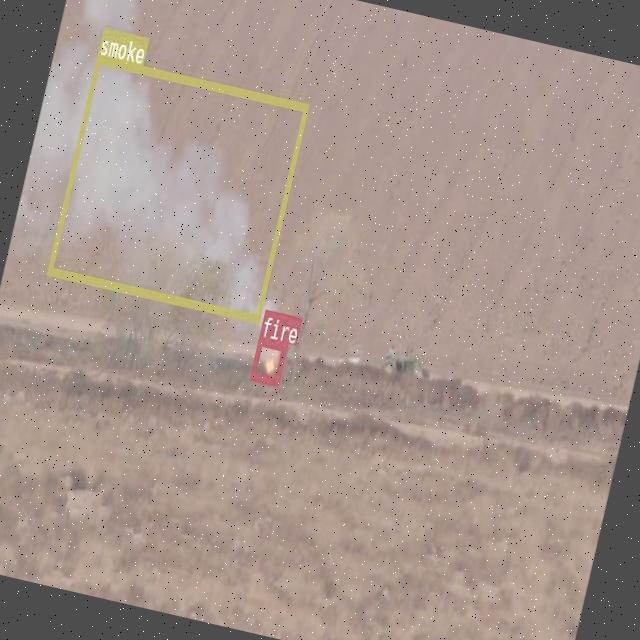fire: (248, 335, 288, 384)
smoke: (46, 54, 309, 320)
